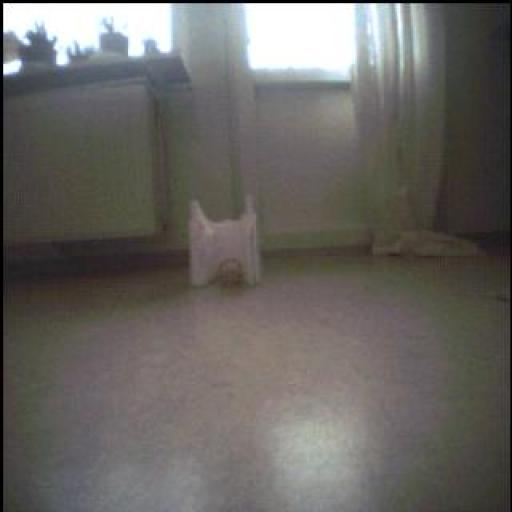Basket: (214, 258, 246, 292)
